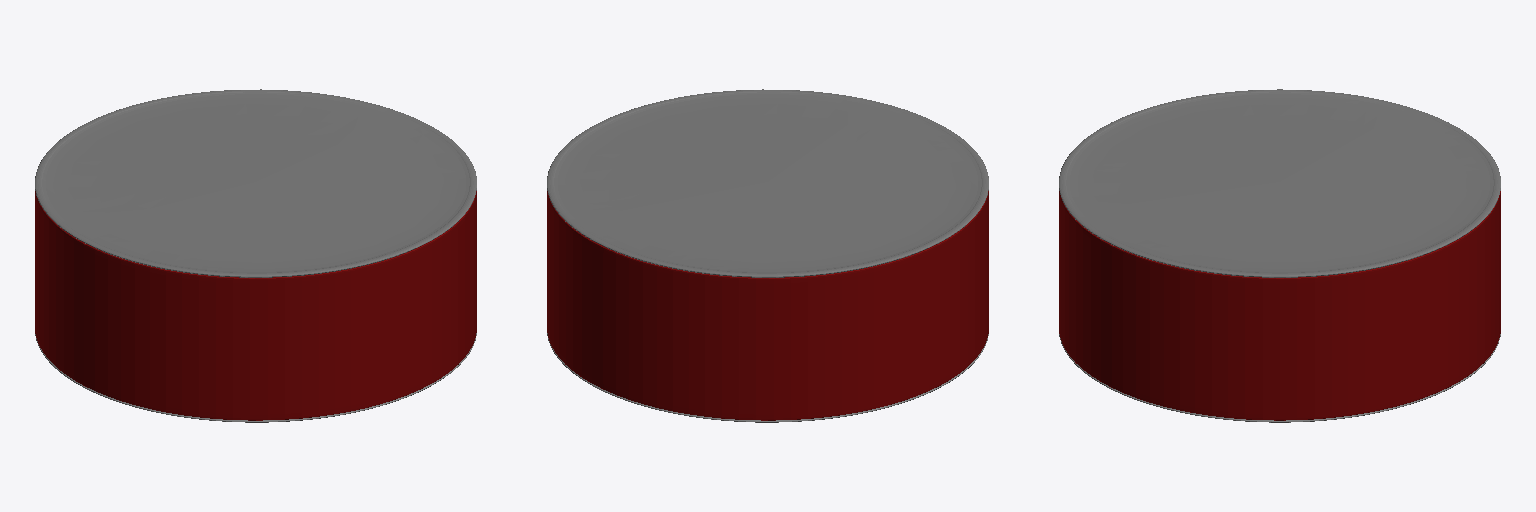
File: tuna.obj
3 renders of one model, left to right at view 1: azimuth 30°, elevation 25°; view 2: azimuth 150°, elevation 25°; view 3: azimuth 270°, elevation 25°, orthographic.
Parts seen in each view (by area): view 1: pCylinder10_pCylinder10, pCylinder9_pCylinder9; view 2: pCylinder10_pCylinder10, pCylinder9_pCylinder9; view 3: pCylinder10_pCylinder10, pCylinder9_pCylinder9.
Boxes of the visible parts, <box> form: pCylinder10_pCylinder10: <box>35,89,476,422</box>; pCylinder9_pCylinder9: <box>35,191,476,420</box>; pCylinder10_pCylinder10: <box>547,89,988,422</box>; pCylinder9_pCylinder9: <box>547,191,988,420</box>; pCylinder10_pCylinder10: <box>1059,89,1500,422</box>; pCylinder9_pCylinder9: <box>1059,191,1500,420</box>.
Bounding box in the file's own units: 1.99 × 0.7354 × 1.99.